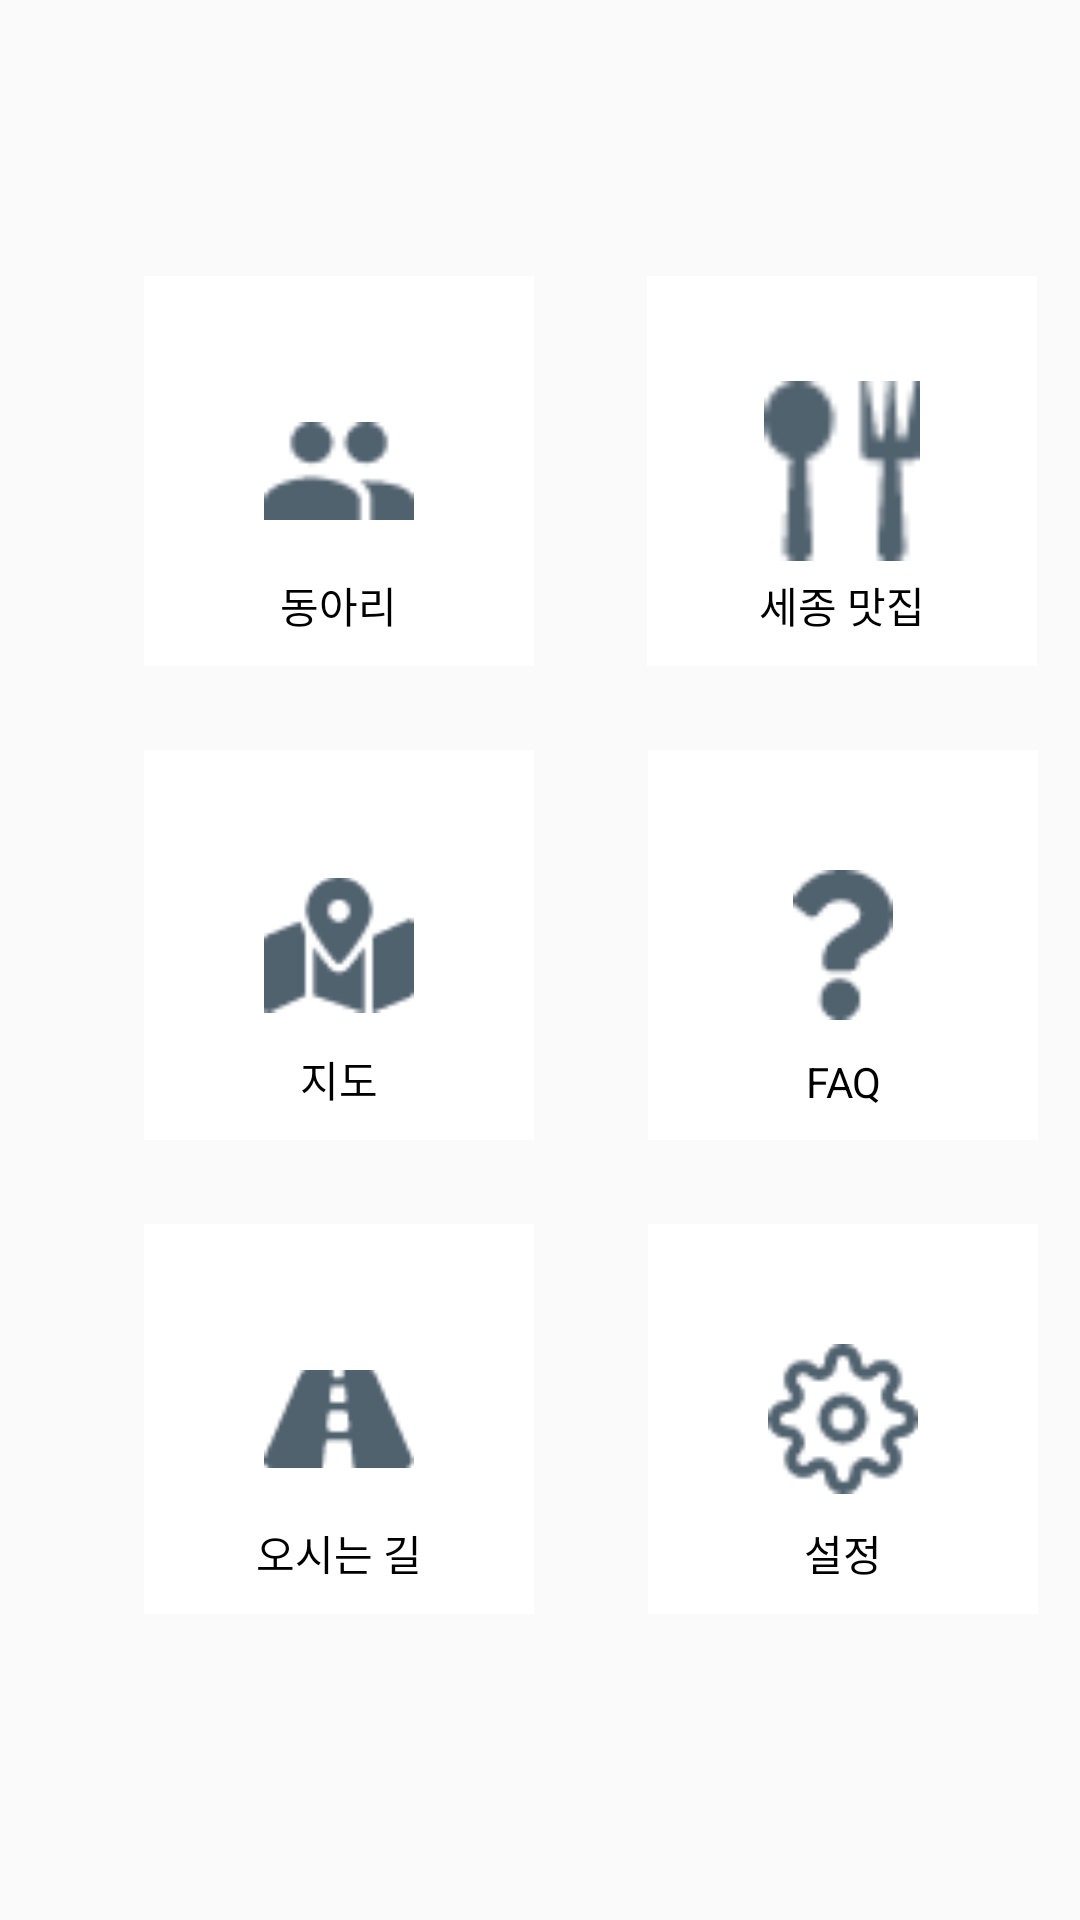

Icons on this 1080*1920 Android screen, each with its box as (x1,y1,x2,y2):
ionic md people: (264,422,414,520)
metro spoon fork: (764,381,920,561)
